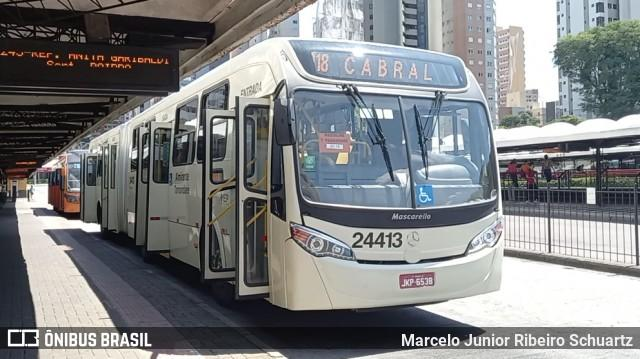CABRAL: (337, 50, 439, 85)
